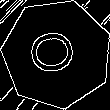O_E: (29, 29, 85, 79)
